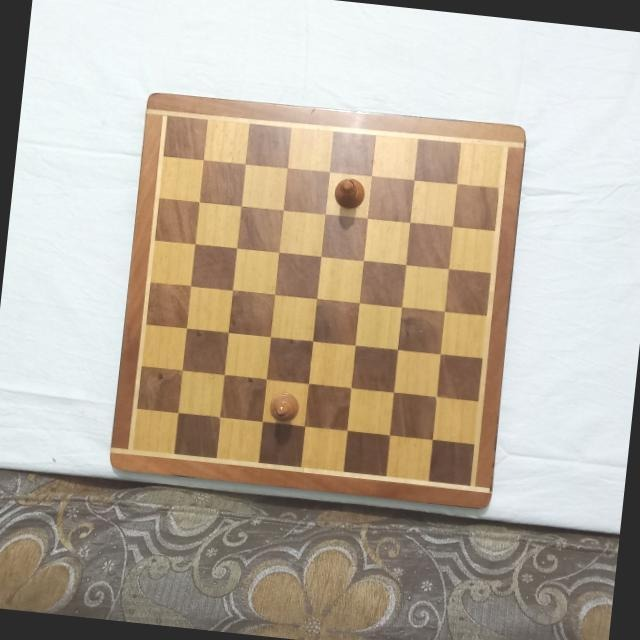white-bishop: (332, 176, 368, 211), (270, 391, 302, 425)
